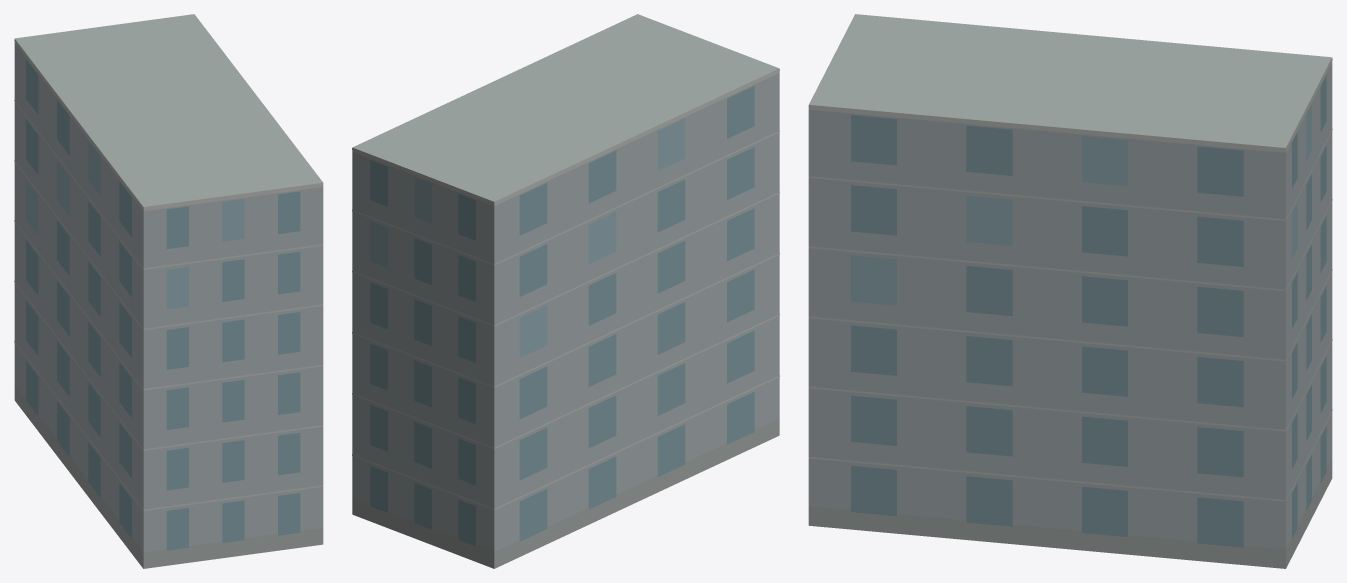
The model's file is survey-upis-32779798.glb.
3 views of the same model, side by side, from view 1: azimuth 30°, elevation 25°; view 2: azimuth 150°, elevation 25°; view 3: azimuth 270°, elevation 25° (orthographic). The views are drawn at different scales.
Visible parts, largest first — view 1: survey-upis-32779798.tmp; view 2: survey-upis-32779798.tmp; view 3: survey-upis-32779798.tmp.
Boxes of the visible parts, x1=… form: survey-upis-32779798.tmp: x1=14, y1=14, x2=323, y2=568; survey-upis-32779798.tmp: x1=352, y1=14, x2=779, y2=568; survey-upis-32779798.tmp: x1=808, y1=14, x2=1332, y2=568.
Bounding box in the file's own units: 14.3 × 20.9 × 23.59.
